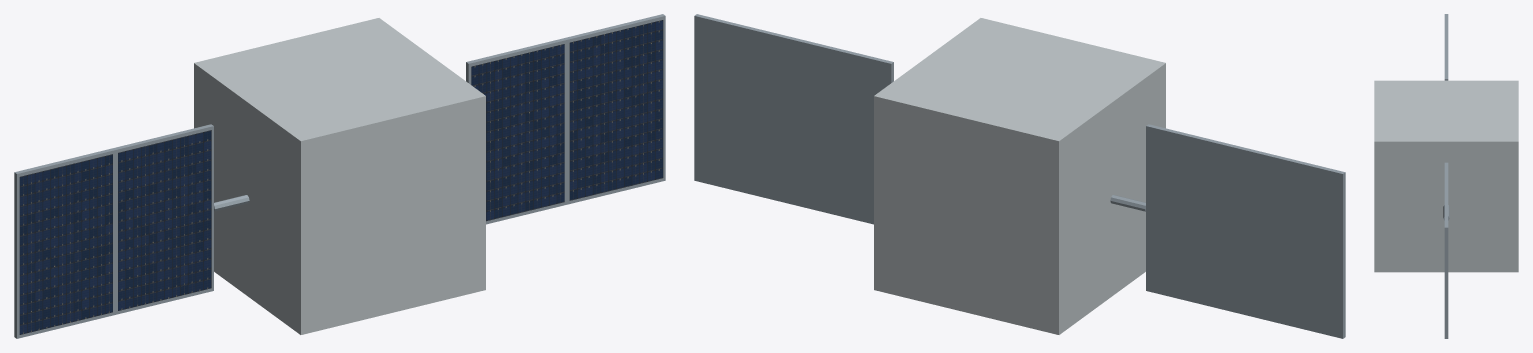
File: ref-skif-54153.glb
3 views of the same model, side by side, from view 1: azimuth 30°, elevation 25°; view 2: azimuth 150°, elevation 25°; view 3: azimuth 270°, elevation 25° (orthographic). The views are drawn at different scales.
Visible parts, largest first — view 1: Spacecraft body, Photovoltaic laminates (×4), Array frame (×4); view 2: Spacecraft body, Array frame (×4); view 3: Spacecraft body, Array frame (×4).
Part boxes in pixels (x1,y1,x2,y2): Spacecraft body: (194,18,485,334); Photovoltaic laminates (×4): (19,20,663,334); Array frame (×4): (14,14,665,338); Spacecraft body: (874,18,1165,334); Array frame (×4): (694,14,1345,338); Spacecraft body: (1374,80,1518,272); Array frame (×4): (1444,14,1448,338).
Size of the model in its own units: 7 by 2 by 2.
3 materials, 1 textured.
